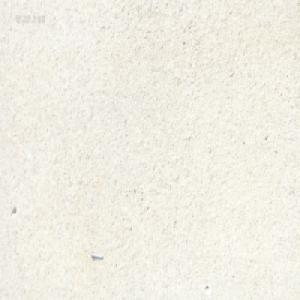Nail: (89, 250, 104, 260)
